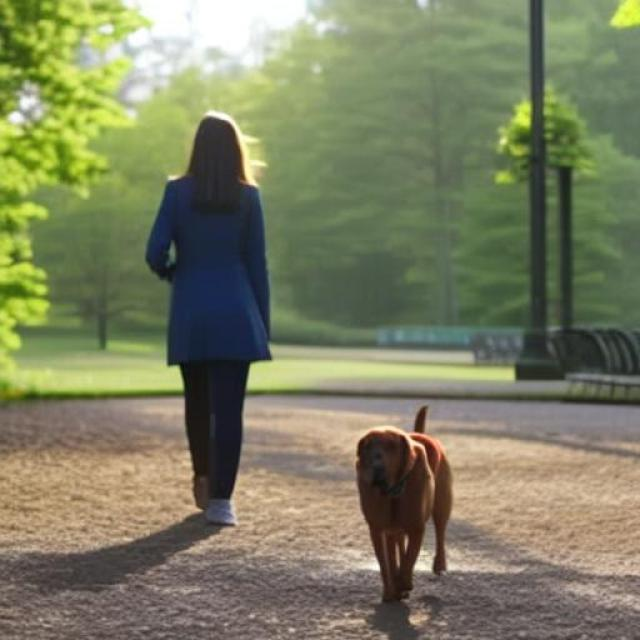Unleashed_Dog: (170, 295, 456, 606)
